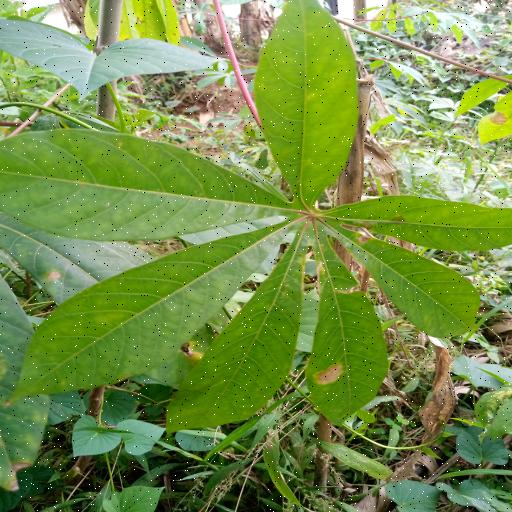Cassava_Brown_Leaf_Spot: (2, 0, 512, 431)
